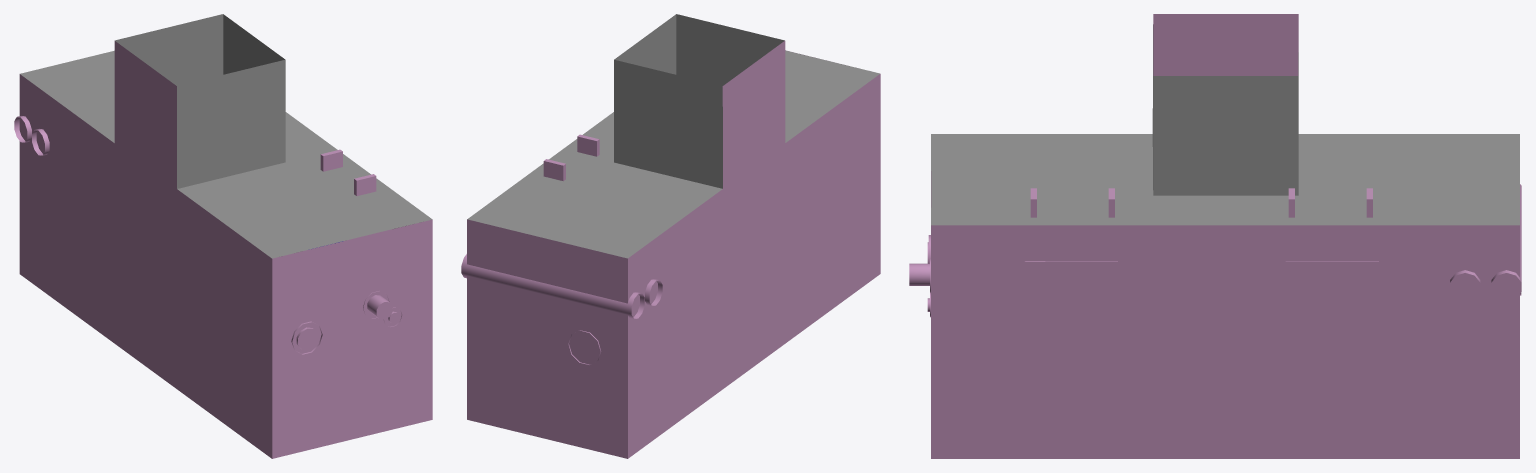
Rendered from Room_arm.FBX.
The picture shows the model from 3 angles, left to right: view 1: azimuth 30°, elevation 25°; view 2: azimuth 150°, elevation 25°; view 3: azimuth 270°, elevation 25°; orthographic projection. The views are drawn at different scales.
Visible parts, largest first — view 1: arm_room; view 2: arm_room; view 3: arm_room.
Boxes of the visible parts, x1,y1,x2,y2 form: arm_room: (14, 14, 432, 458); arm_room: (461, 14, 880, 458); arm_room: (909, 14, 1521, 458).
Bounding box in the file's own units: 94.99 × 162 × 254.
